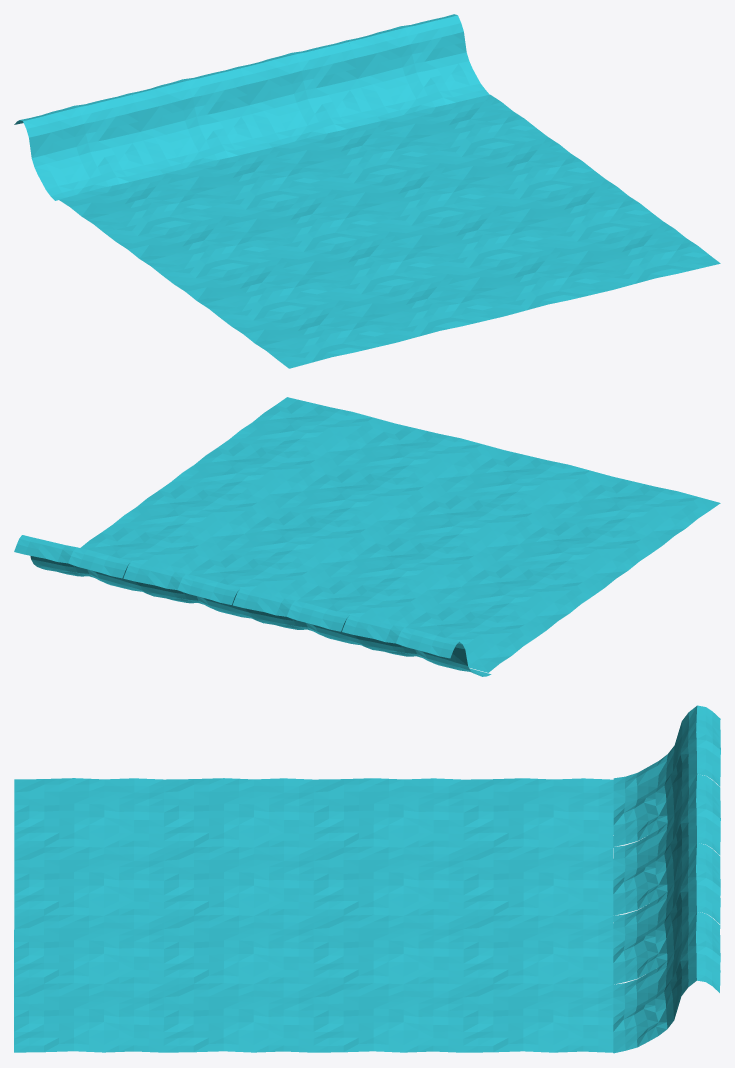
The model's file is SM_Fantasy_Scene_Sea.fbx.
The picture shows the model from 3 angles, top to bottom: view 1: azimuth 30°, elevation 25°; view 2: azimuth 150°, elevation 25°; view 3: azimuth 270°, elevation 25°; orthographic projection. The views are drawn at different scales.
Visible parts, largest first — view 1: SM_Fantasy_Scene_Sea; view 2: SM_Fantasy_Scene_Sea; view 3: SM_Fantasy_Scene_Sea.
Boxes of the visible parts, x1=… form: SM_Fantasy_Scene_Sea: x1=14, y1=14, x2=720, y2=368; SM_Fantasy_Scene_Sea: x1=14, y1=397, x2=720, y2=676; SM_Fantasy_Scene_Sea: x1=14, y1=705, x2=720, y2=1053.
Size of the model in its own units: 1659 by 208 by 1801.
